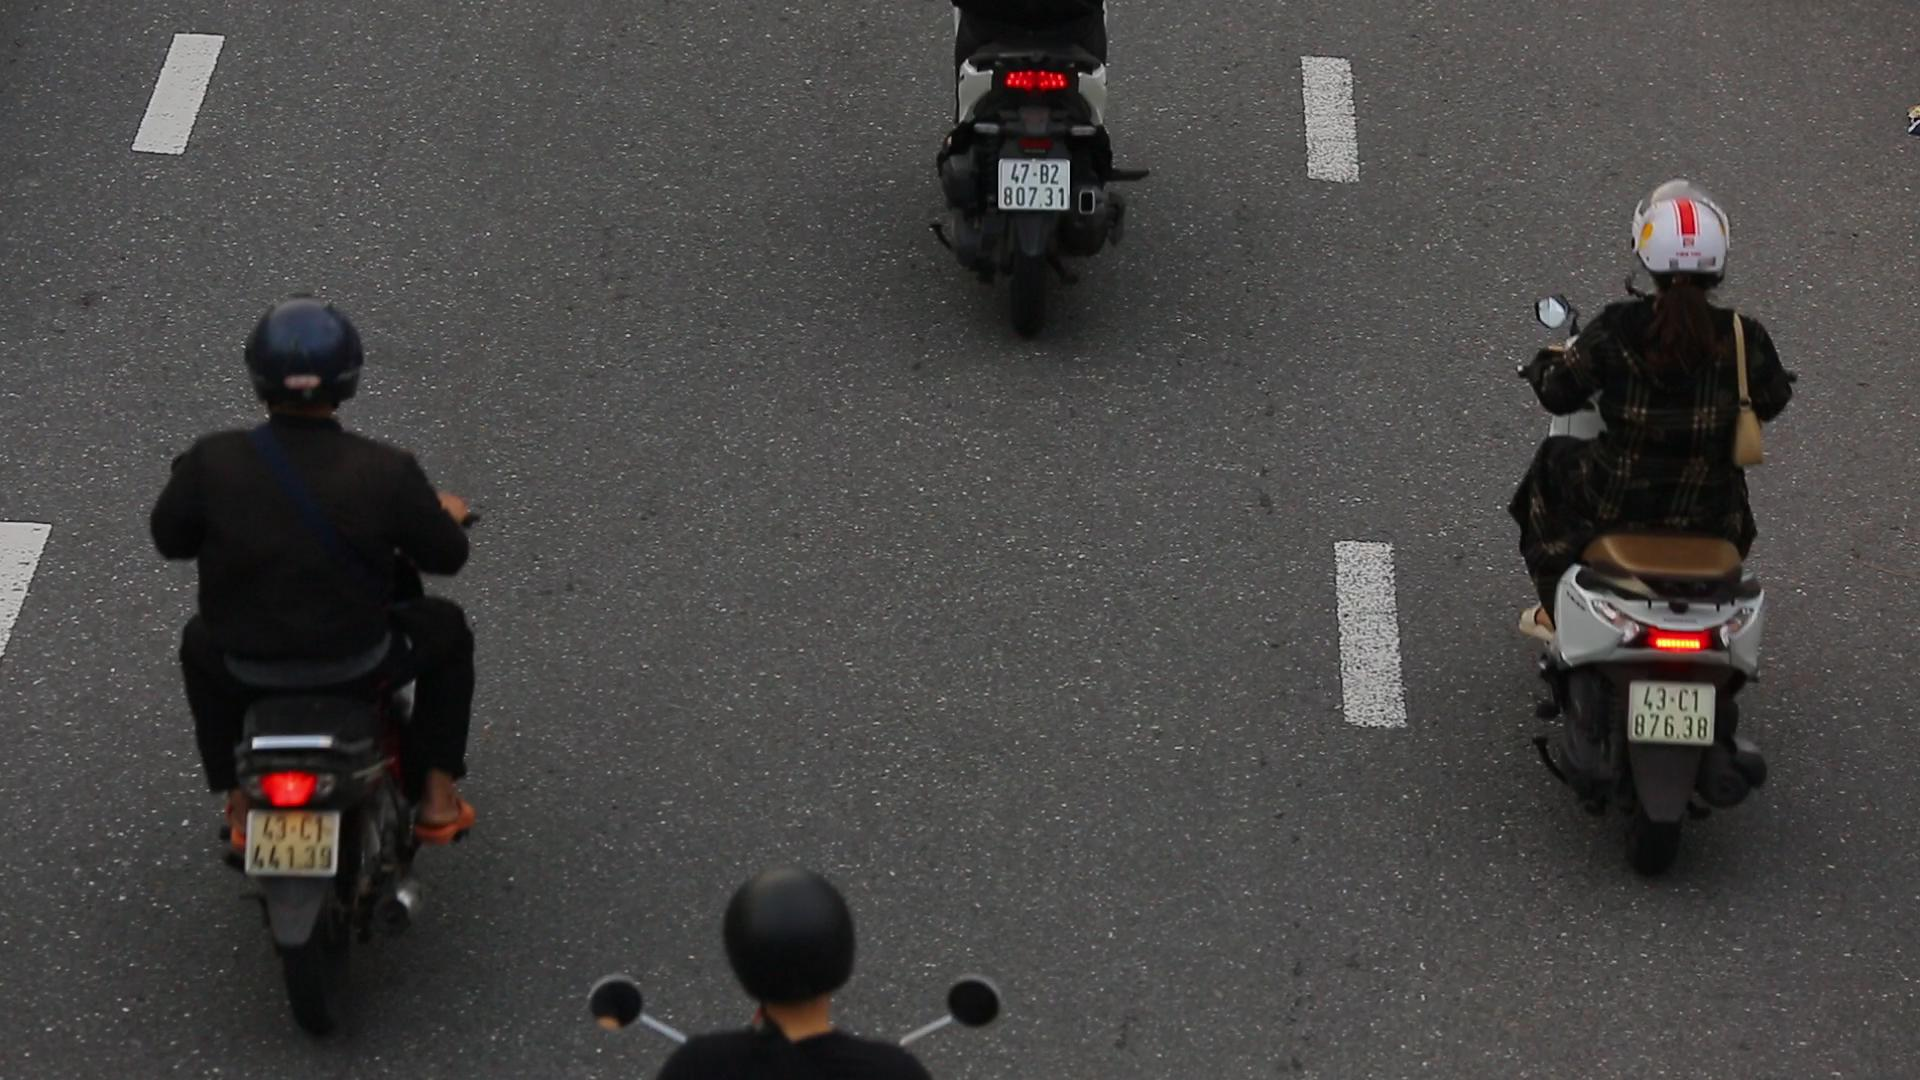motobike: (132, 315, 492, 1022), (1505, 153, 1797, 927)
